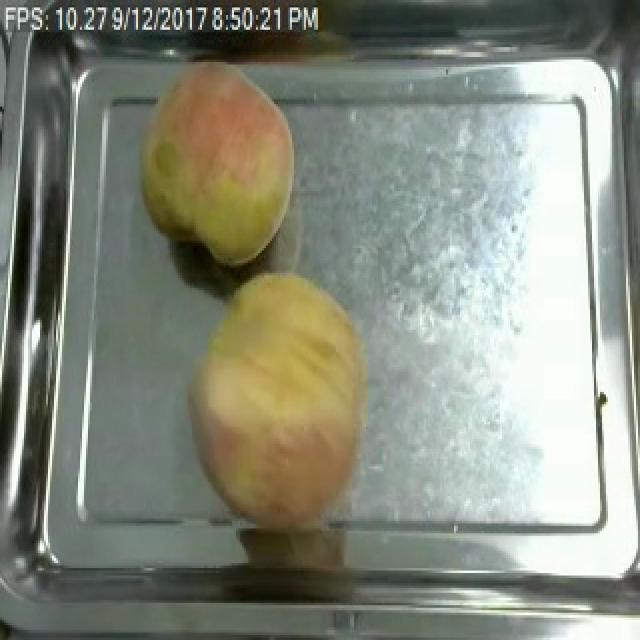Fruit: (180, 265, 378, 531), (128, 54, 304, 270)
